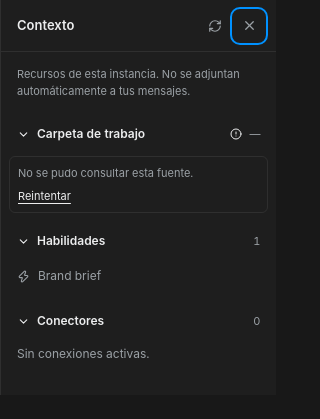
it: keeps source failures independent and never invents web search
Click the button "Reintentar" at [44, 196], box x1=18 y1=188 x2=71 y2=204
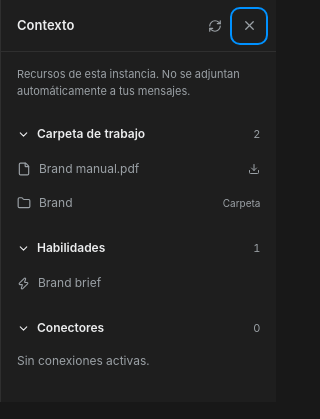
Expected: the text "Brand manual.pdf" is shown, x1=39 y1=161 x2=139 y2=176
